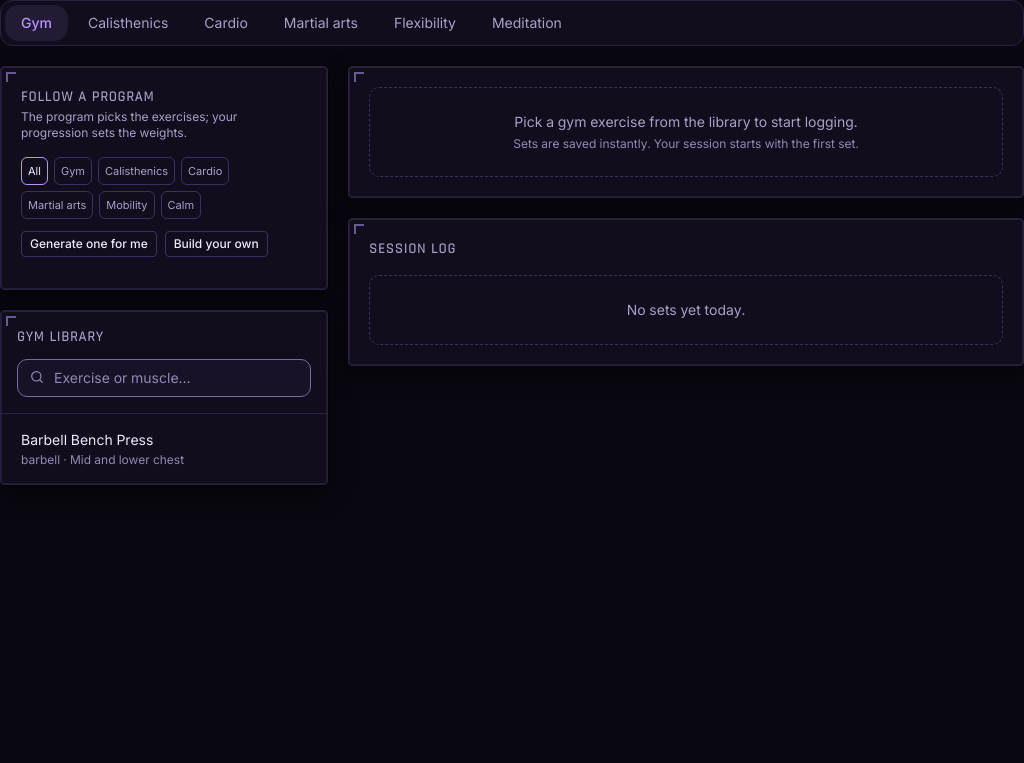
Training page › logs a timed run into a cardio session
Click the tab "Cardio" at [226, 23], box [188,5,264,41]
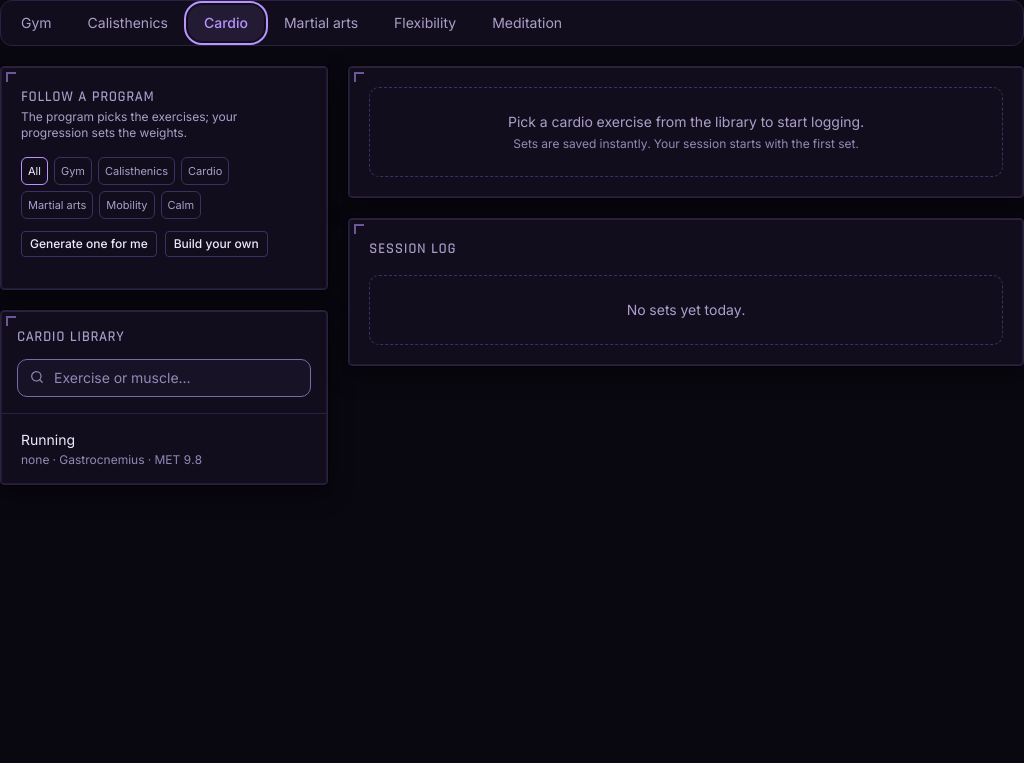
Click the text "Running" at [48, 440], box [21,431,75,448]
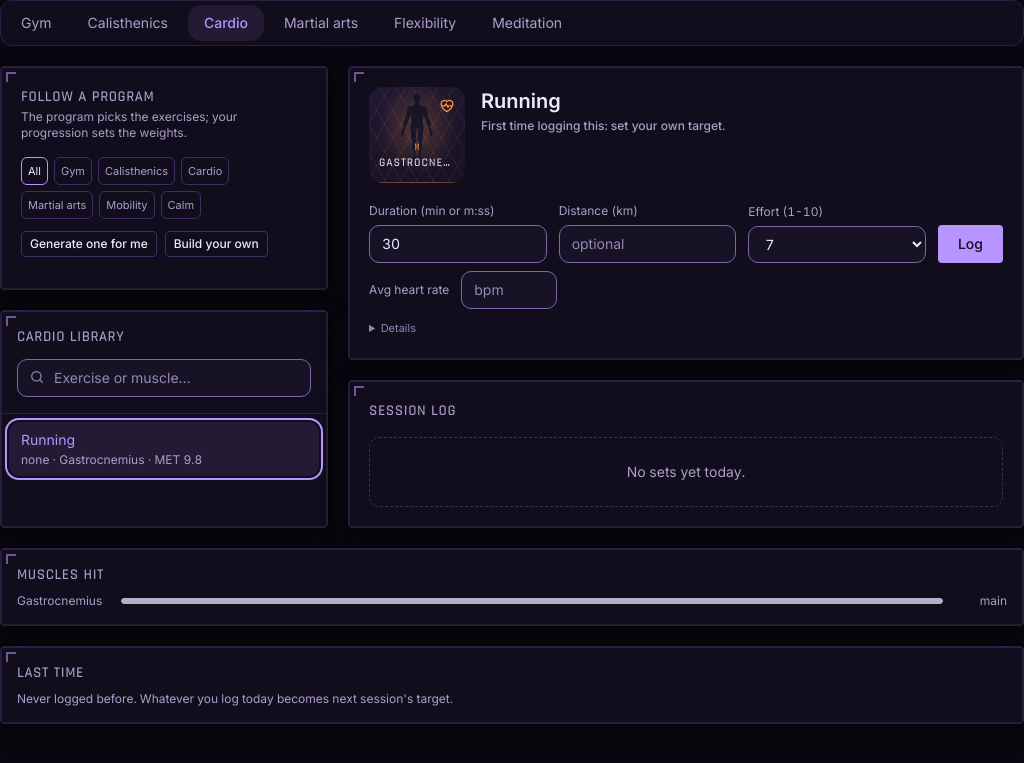
Click the button "Log" at [970, 244], box [938,225,1003,263]
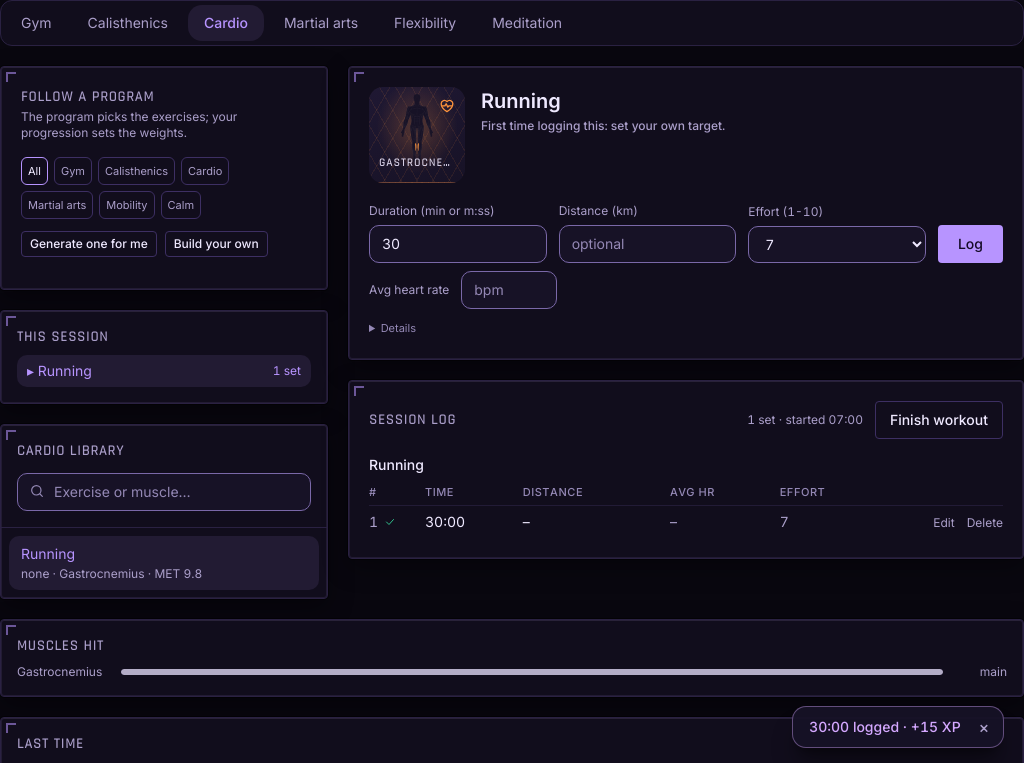
Expected: the text "30:00" is shown, [425,505,523,538]
